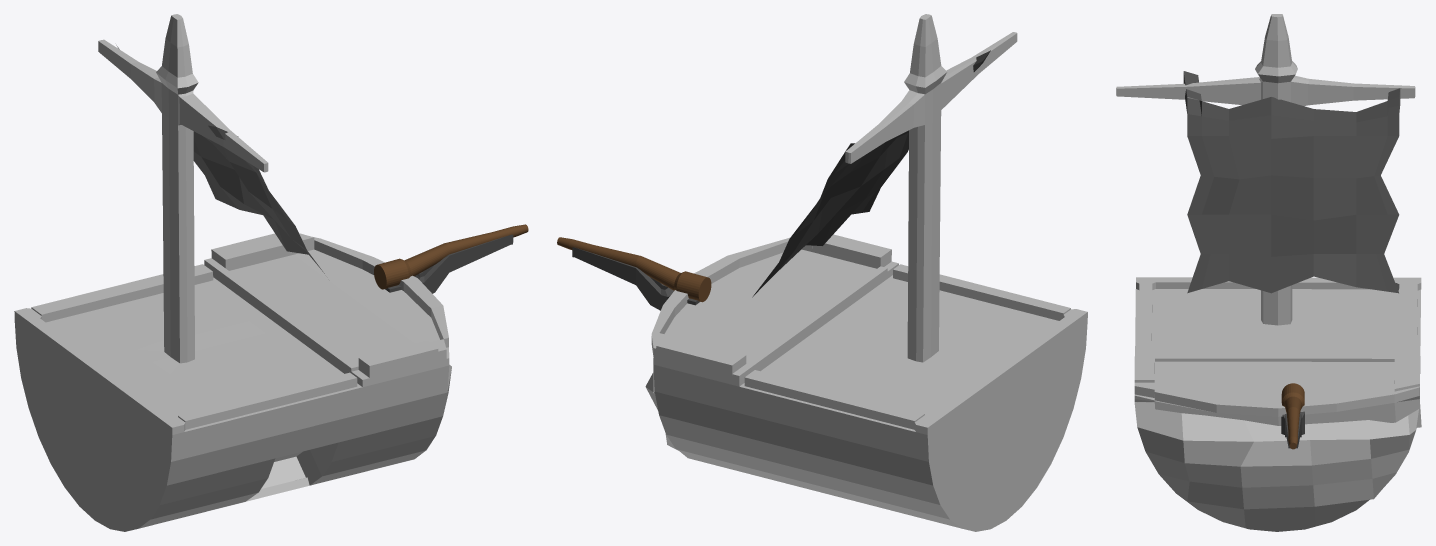
The model's file is boat.fbx.
3 renders of one model, left to right at view 1: azimuth 30°, elevation 25°; view 2: azimuth 150°, elevation 25°; view 3: azimuth 270°, elevation 25°, orthographic. The views are drawn at different scales.
Parts seen in each view (by area): view 1: Plane; view 2: Plane; view 3: Plane.
Boxes of the visible parts, <box> form: Plane: <box>14,14,528,531</box>; Plane: <box>557,14,1087,531</box>; Plane: <box>1116,14,1421,531</box>.
Size of the model in its own units: 321 by 336 by 214.
